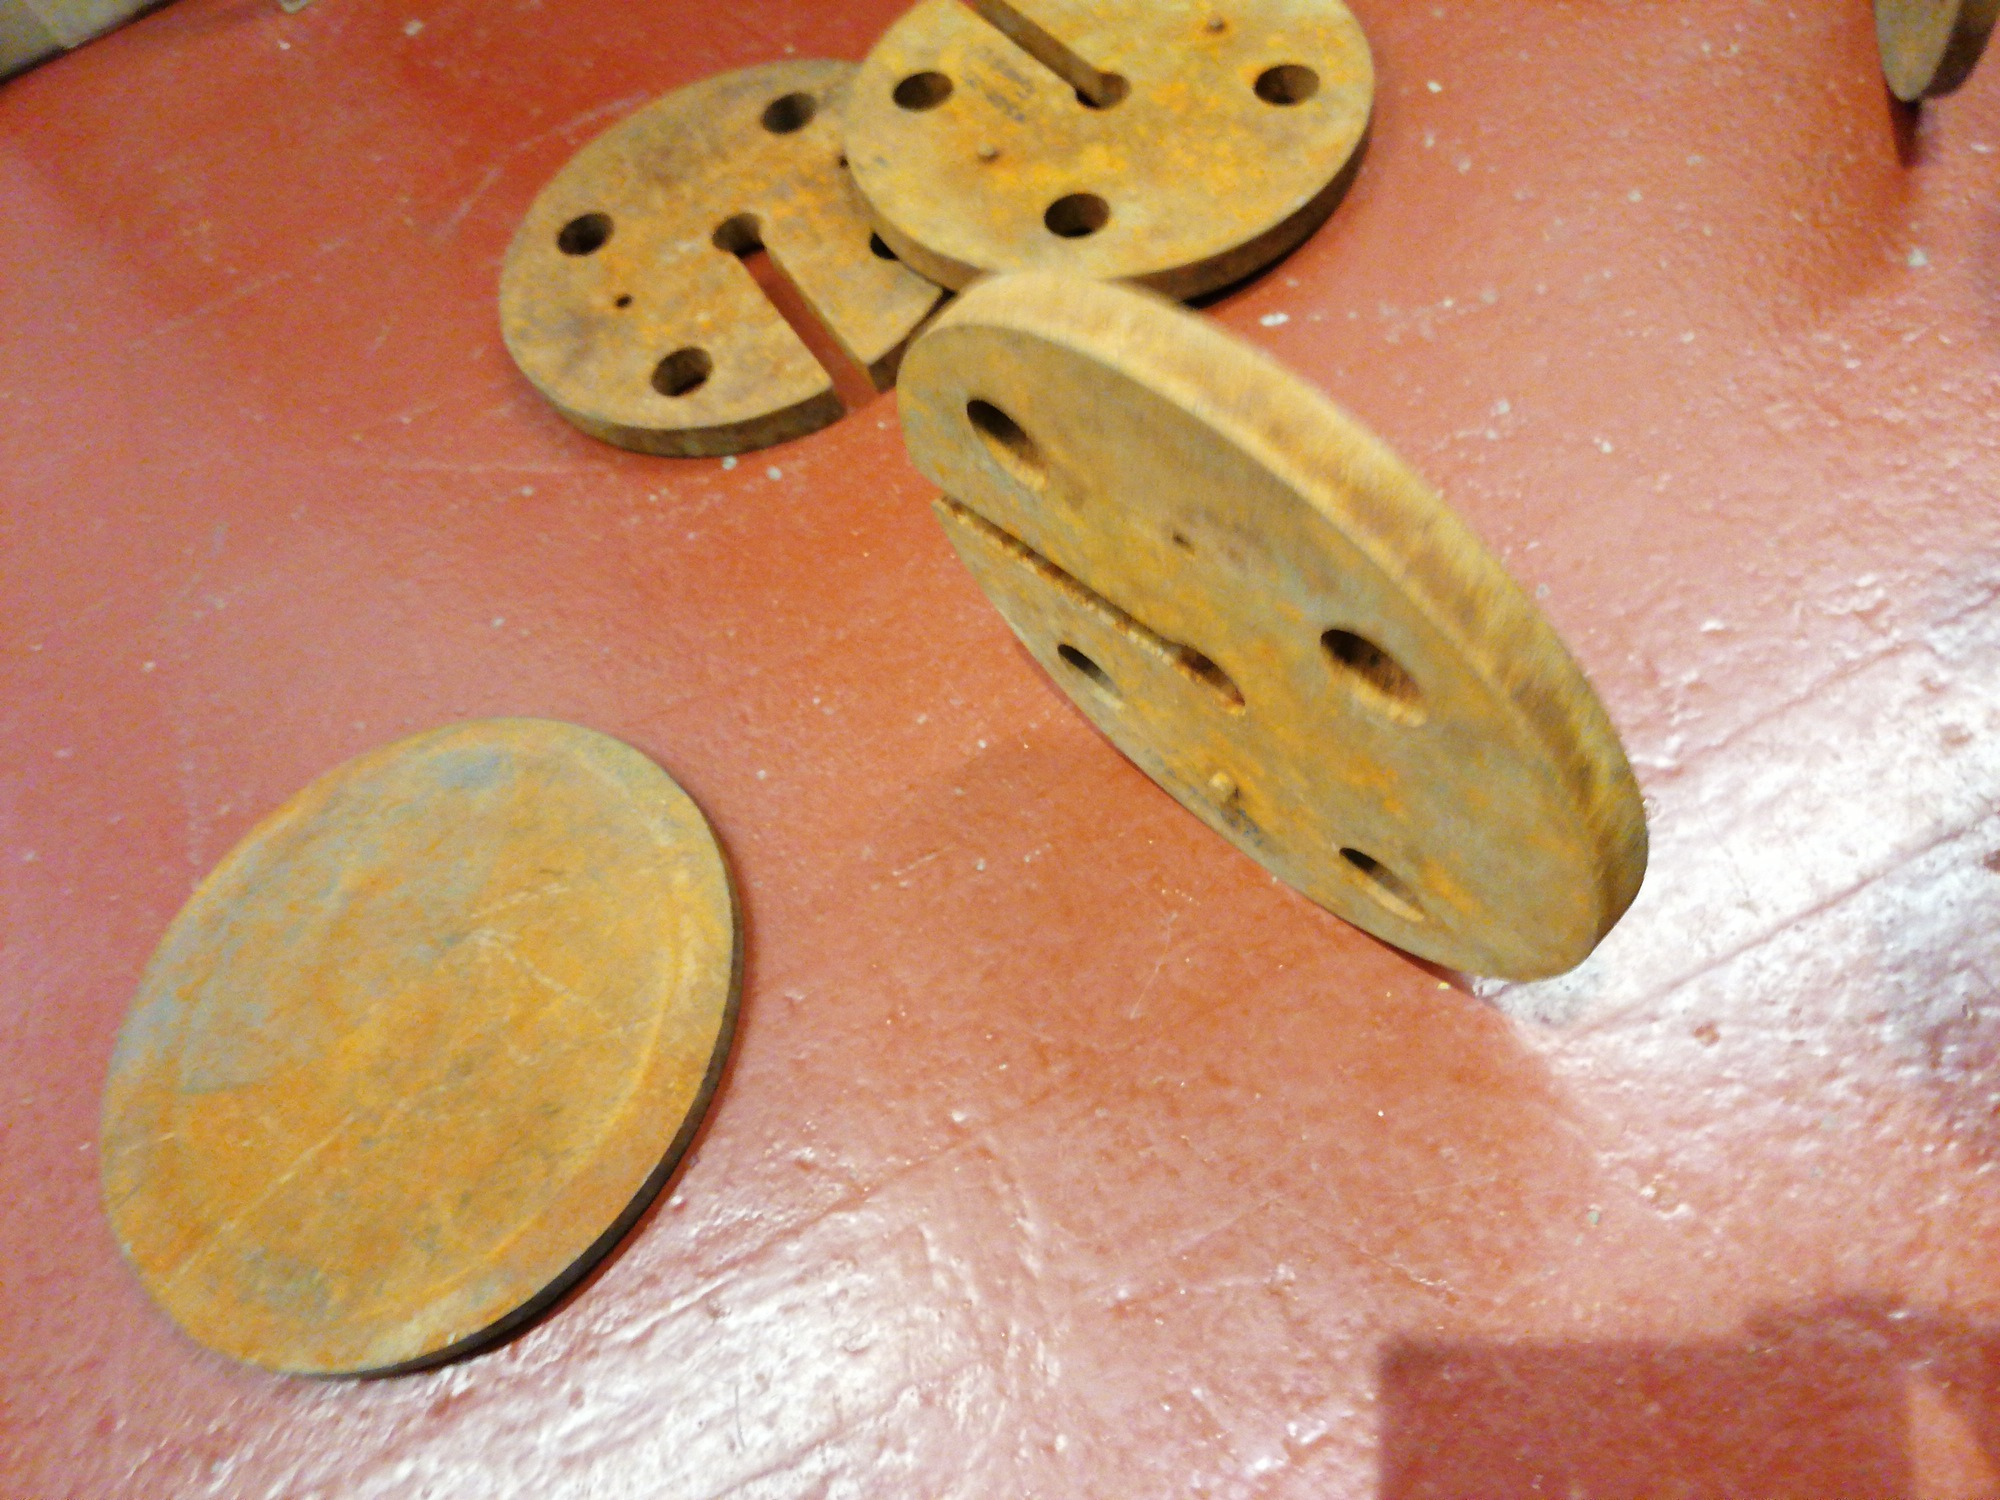flange: (898, 269, 1652, 985), (91, 714, 750, 1380), (494, 55, 950, 455), (843, 2, 1380, 303)
